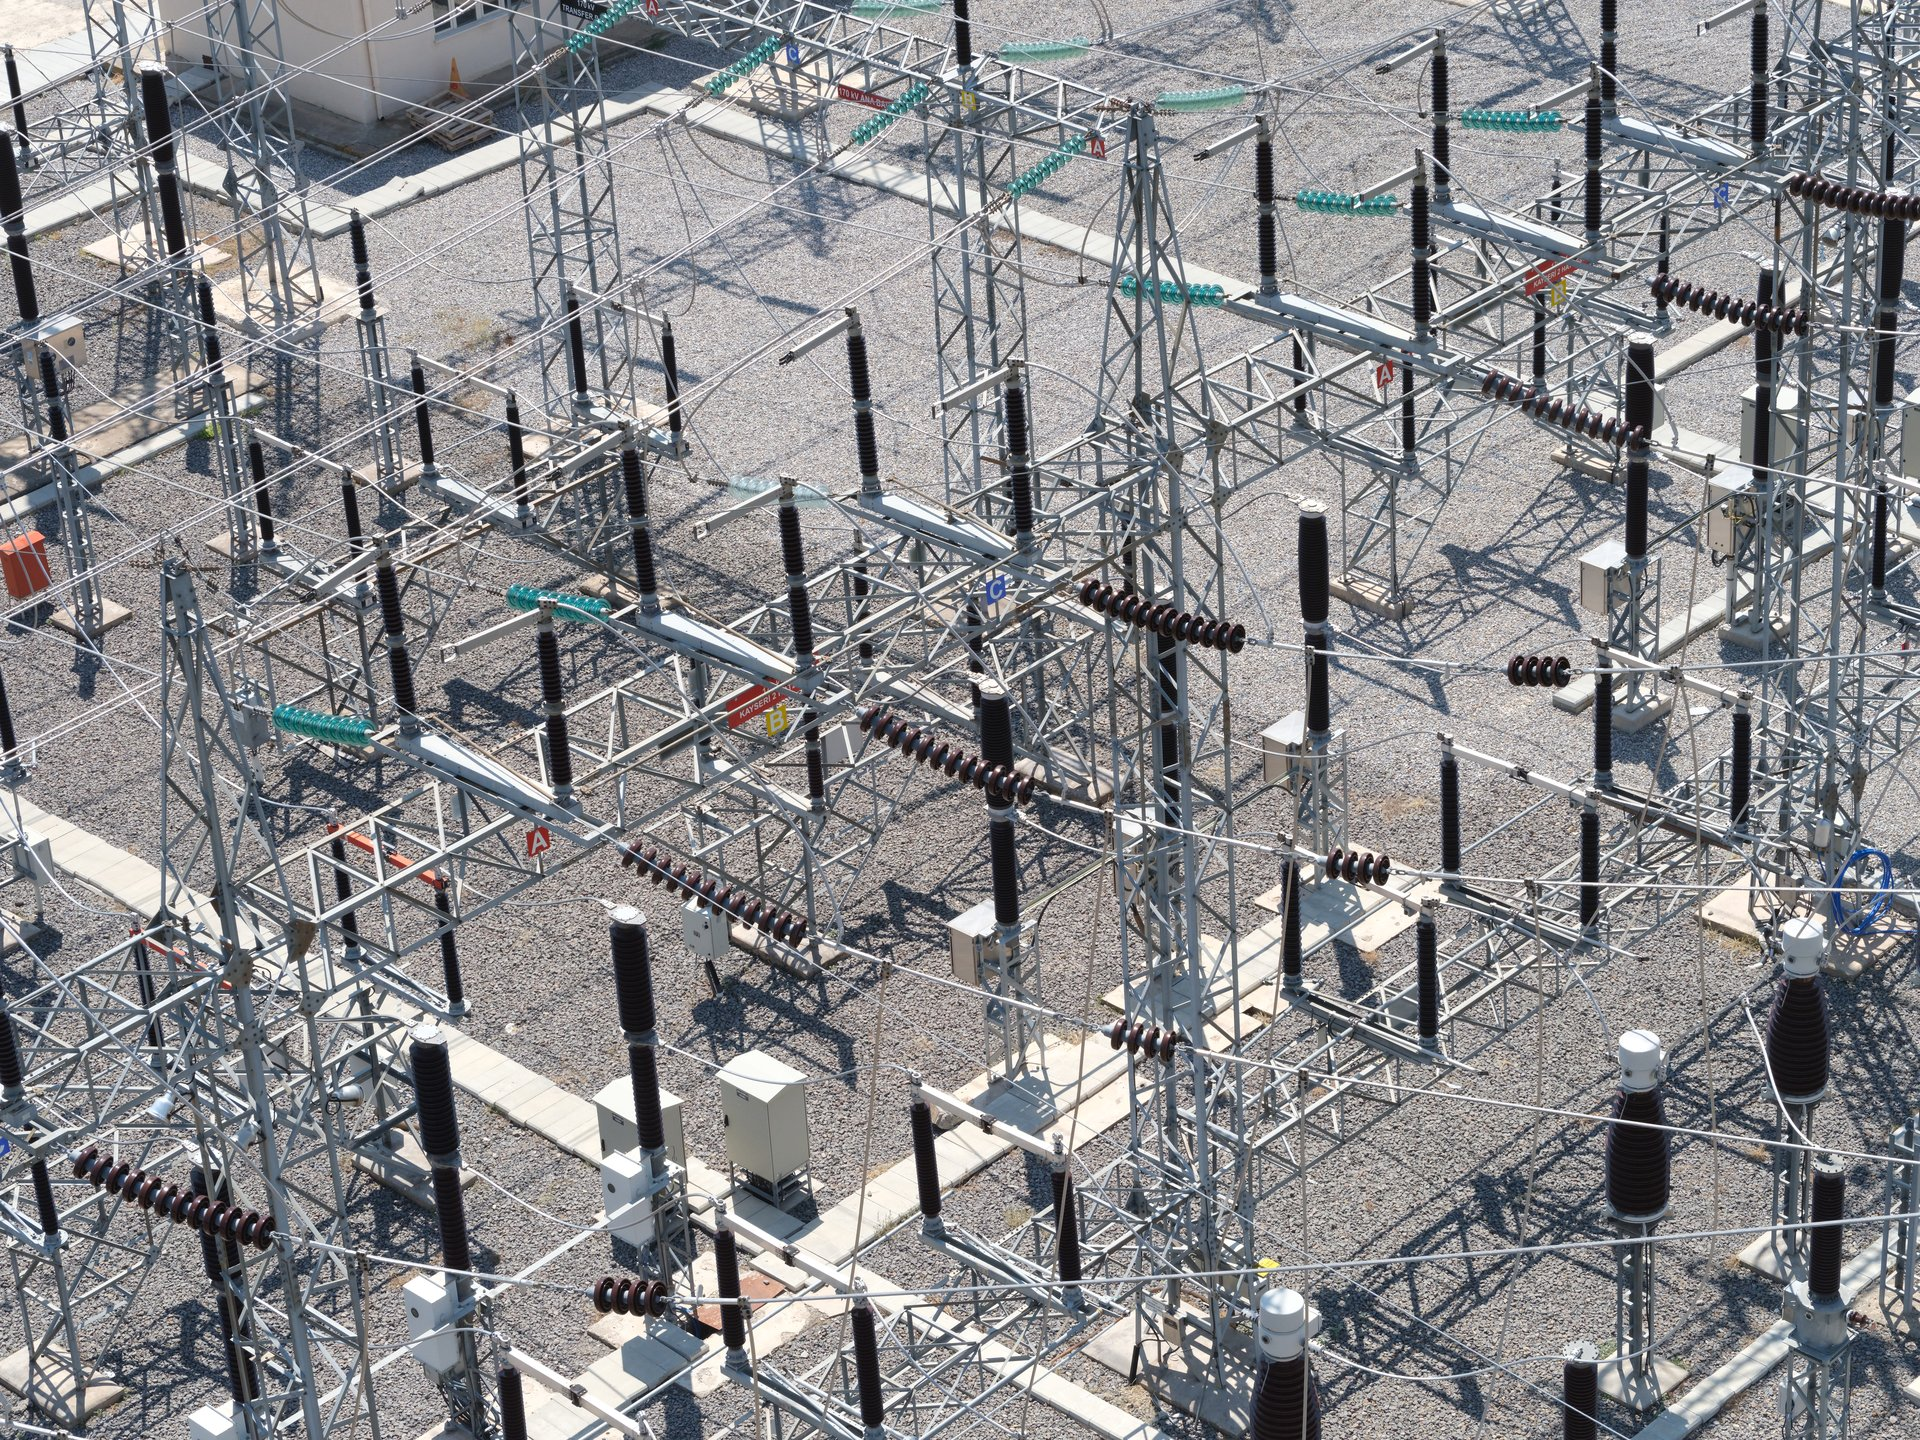voltage_line: (983, 98, 1398, 1432)
